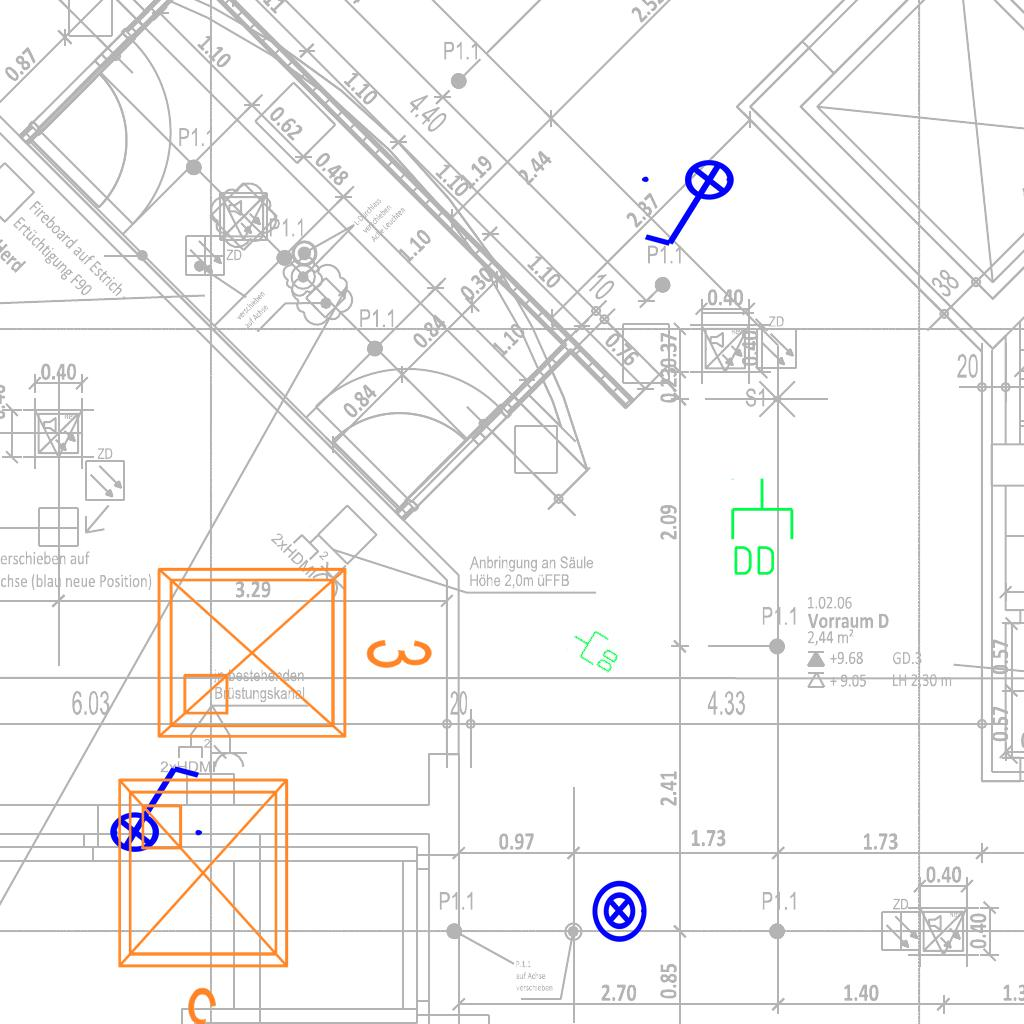Ausschalter_beleuchtet: (636, 158, 748, 254), (96, 758, 208, 854)
Datenanschluss_zweifach: (727, 476, 796, 579), (564, 621, 627, 677)
Einbaudownlights_LED_Konferenzraeume: (143, 545, 443, 753), (103, 764, 311, 1024)
Taster_beleuchtet: (586, 878, 652, 944)
